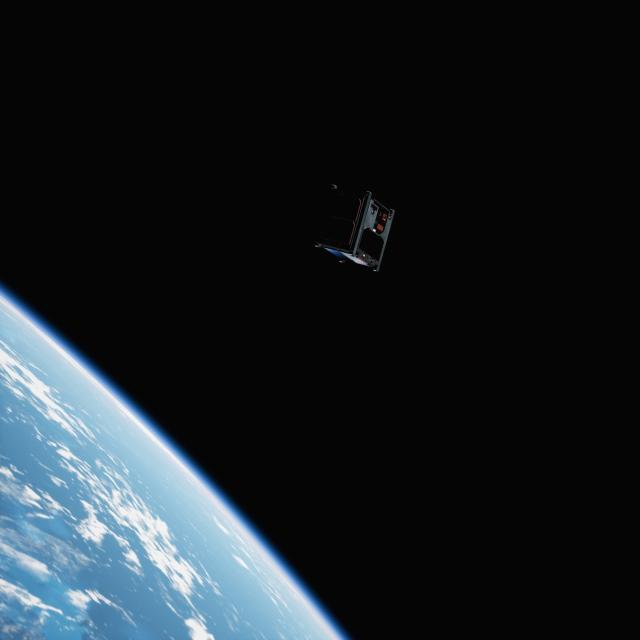medium_debris: (311, 174, 401, 274)
